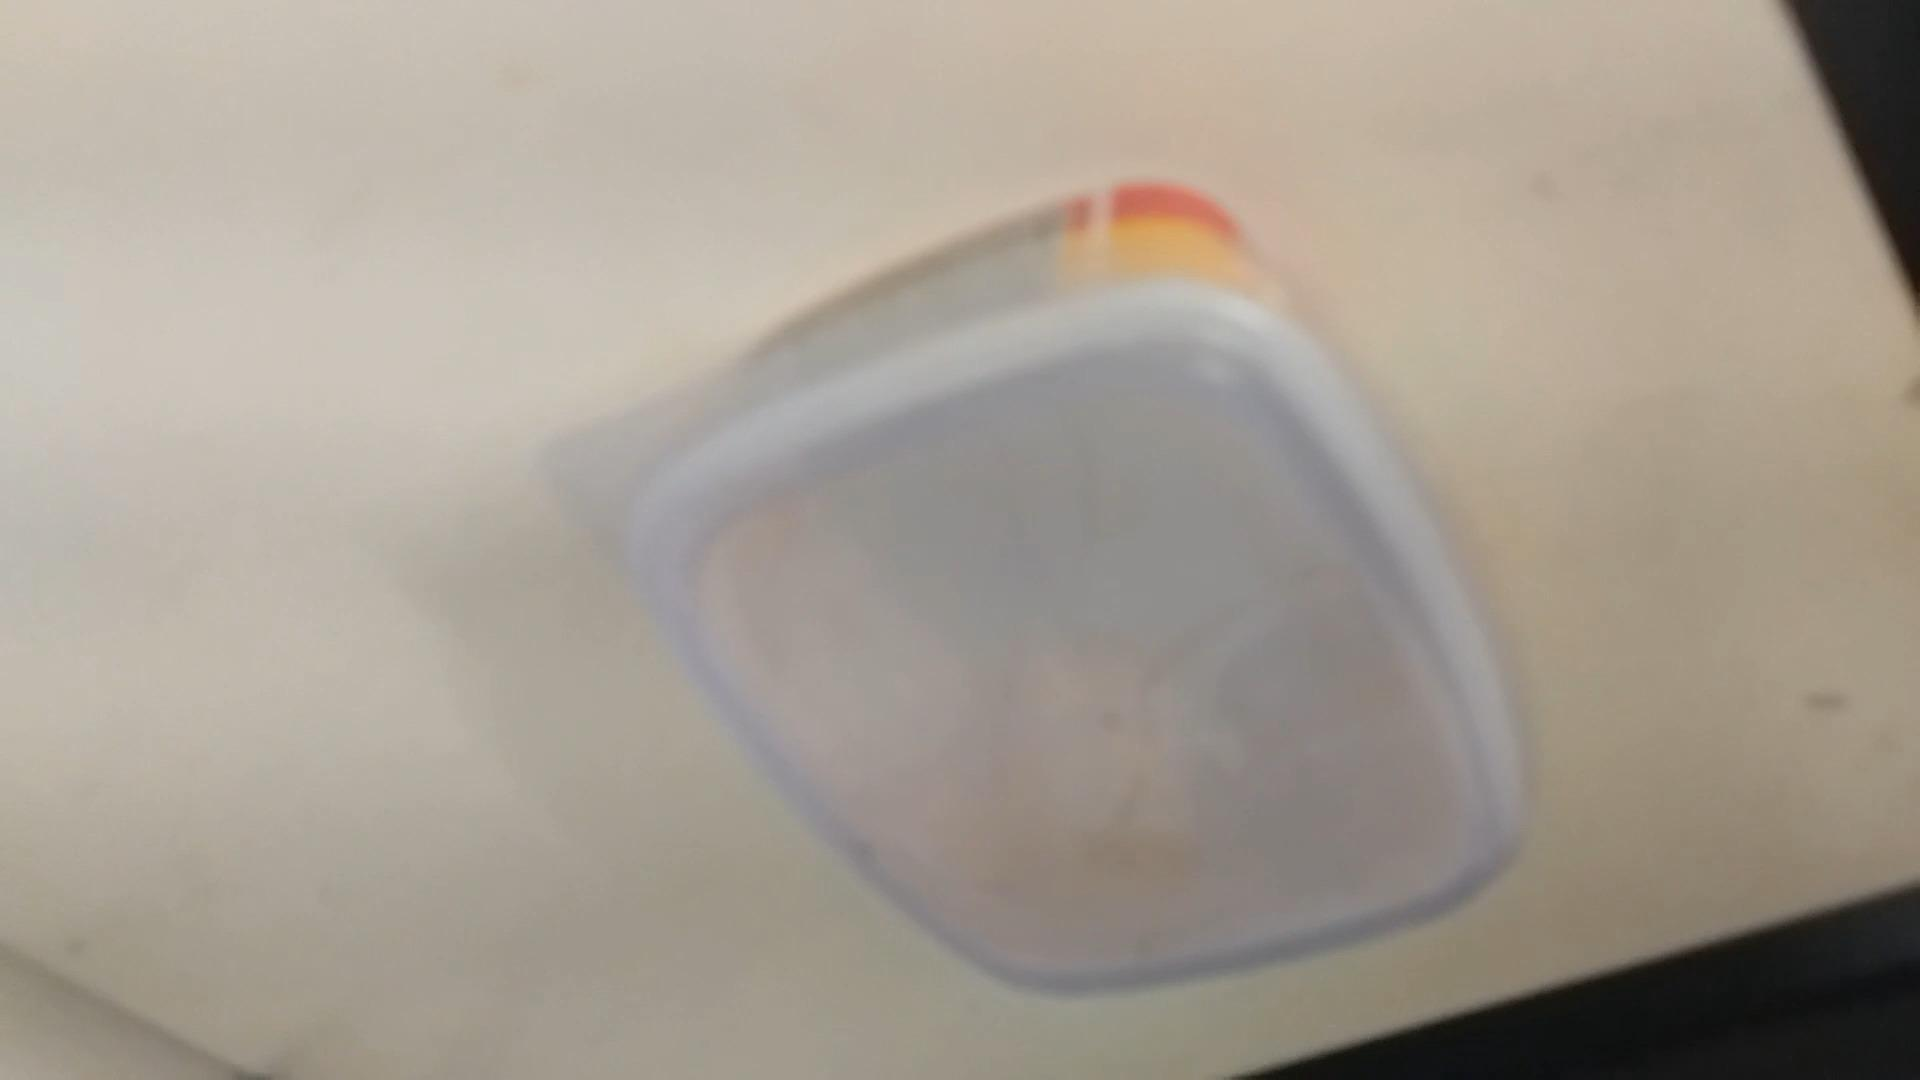butter: (580, 194, 1527, 997)
